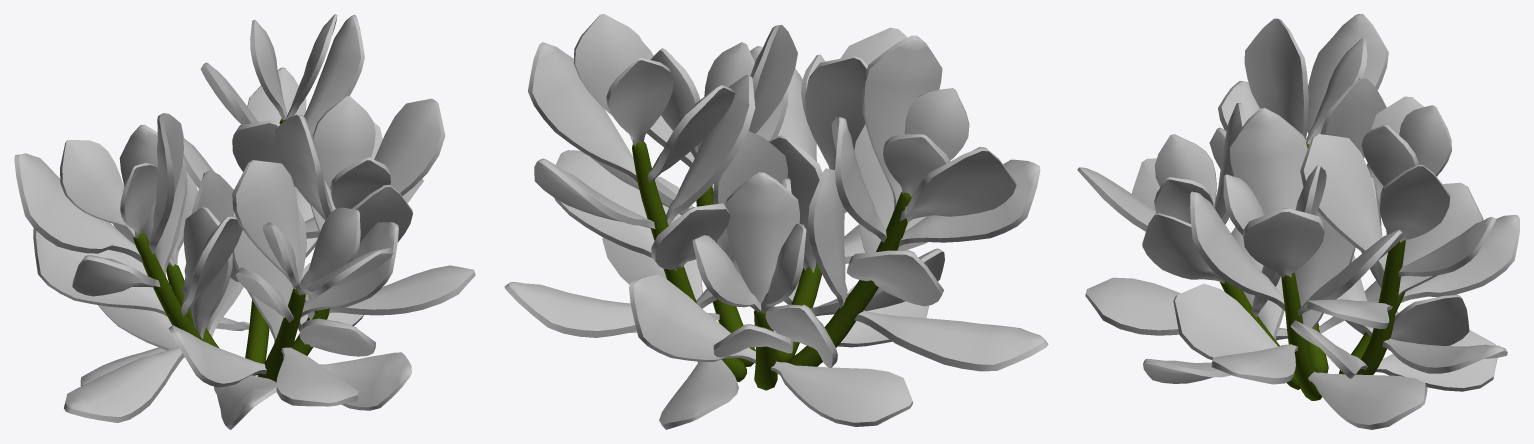
The model's file is Foliage_Crassula.fbx.
The picture shows the model from 3 angles, left to right: view 1: azimuth 30°, elevation 25°; view 2: azimuth 150°, elevation 25°; view 3: azimuth 270°, elevation 25°; orthographic projection. The views are drawn at different scales.
Parts seen in each view (by area): view 1: Foliage_Crassula; view 2: Foliage_Crassula; view 3: Foliage_Crassula.
Part boxes in pixels (<box>): Foliage_Crassula: <box>14,14,475,429</box>; Foliage_Crassula: <box>504,14,1048,429</box>; Foliage_Crassula: <box>1077,14,1519,429</box>.
Bounding box in the file's own units: 15.42 × 11.62 × 14.5.
